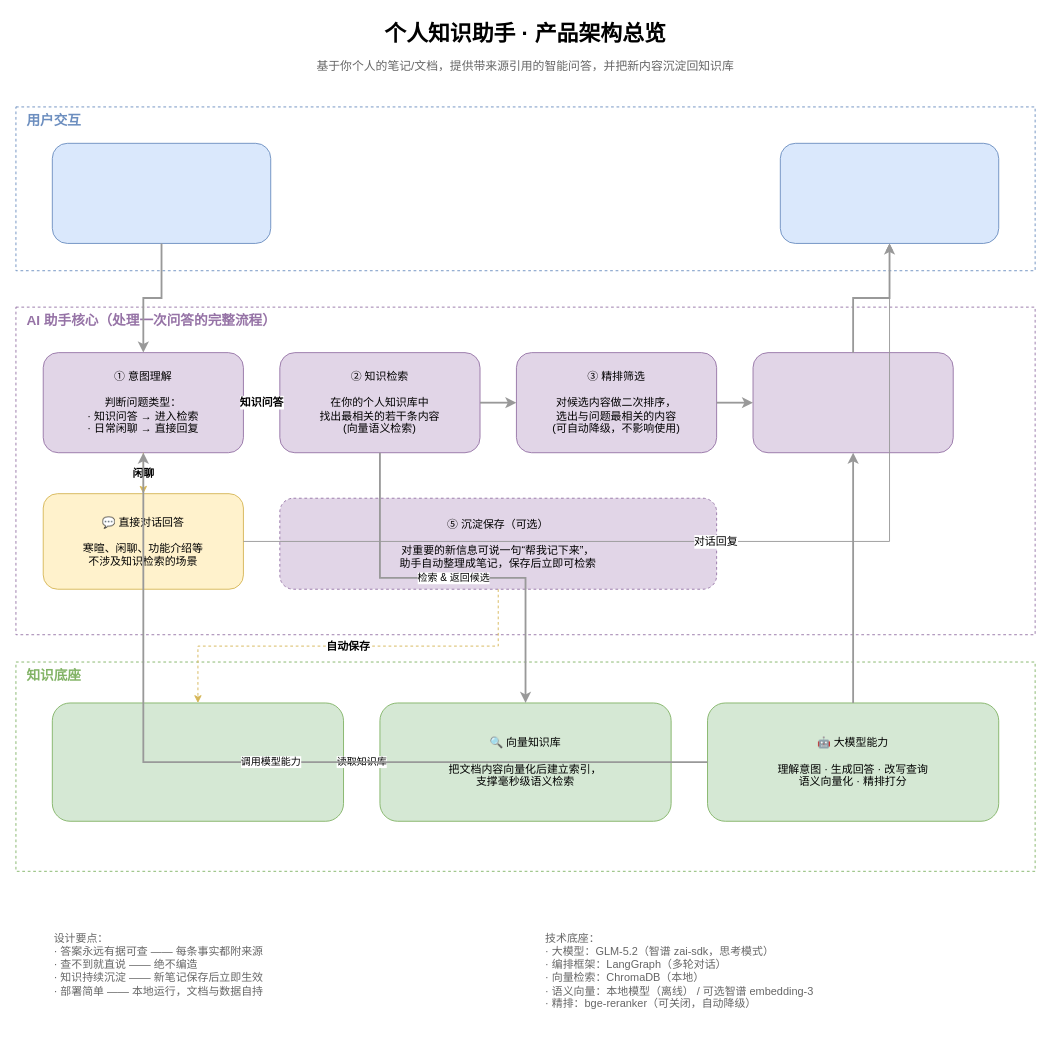
Image size: 1051x1041. Some labels were removed from this diagram. Here are the shapes that lost their labels. From the top down, the centre of each, then its label:
(x=161, y=192): 💬 用户提问 用自然语言提出任何关于个人知识的问题 (对话式交互，支持连续追问)
(x=889, y=192): ✅ 带引用的回答 每条事实都标注来源， 可追溯、零编造
(x=852, y=402): ④ 智能回答 严格依据检索结果生成回答， 每条关键事实附带来源标注 (查不到就如实说明)
(x=197, y=761): 📁 个人知识库 你自己的 markdown / 笔记文档 (学习资料、会议记录、项目文档…) 本地保存，完全由你掌控
